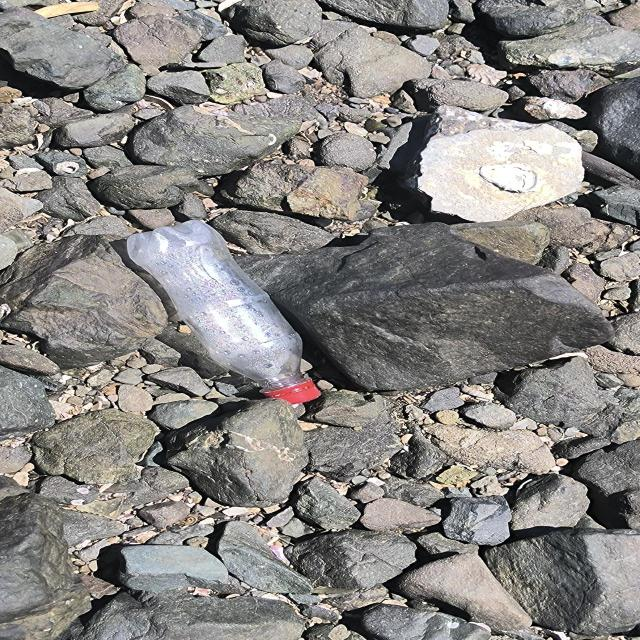plastic_waste: (127, 220, 323, 407)
